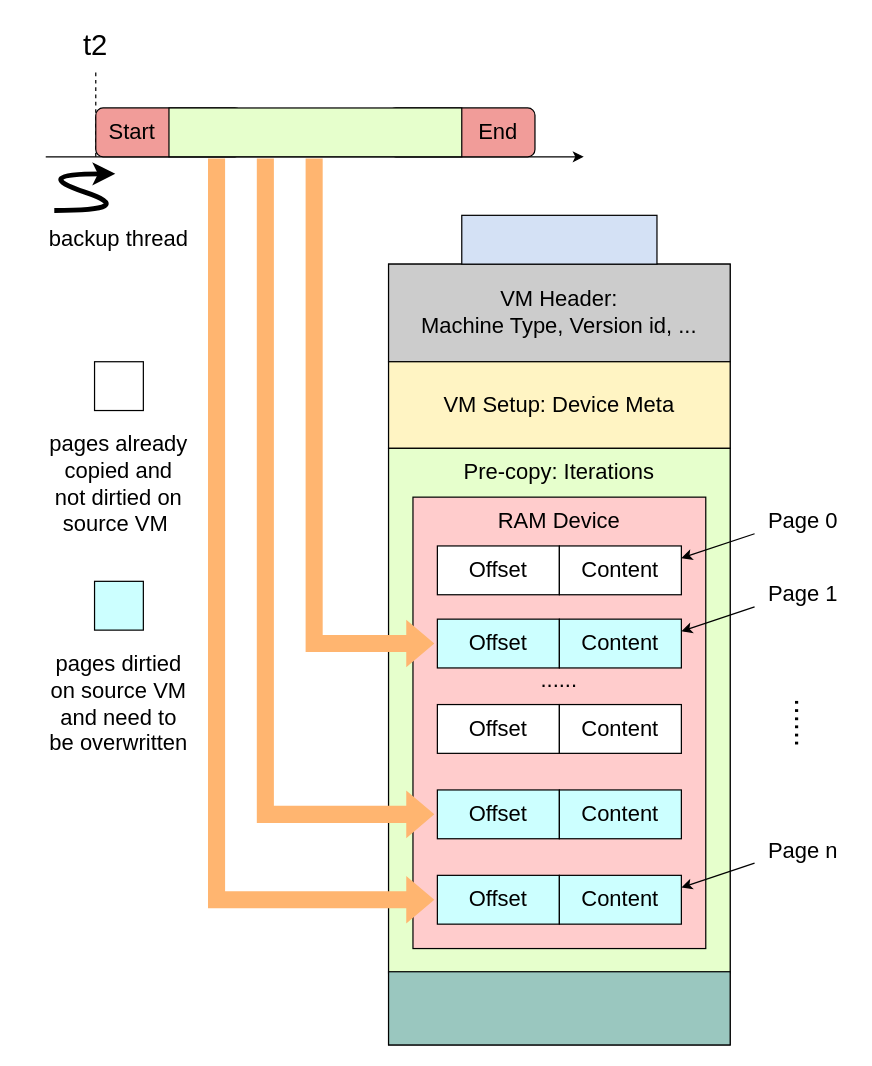
Image size: 872x1066. Some labels were removed from this diagram. The shapes that lost their labels are listed below. From the top down, each one's centre as x and y in pixels, then its label:
pixel 315 132: Backup dirty dages
pixel 559 239: Backup Image
pixel 558 1008: VM State: Cpu states
